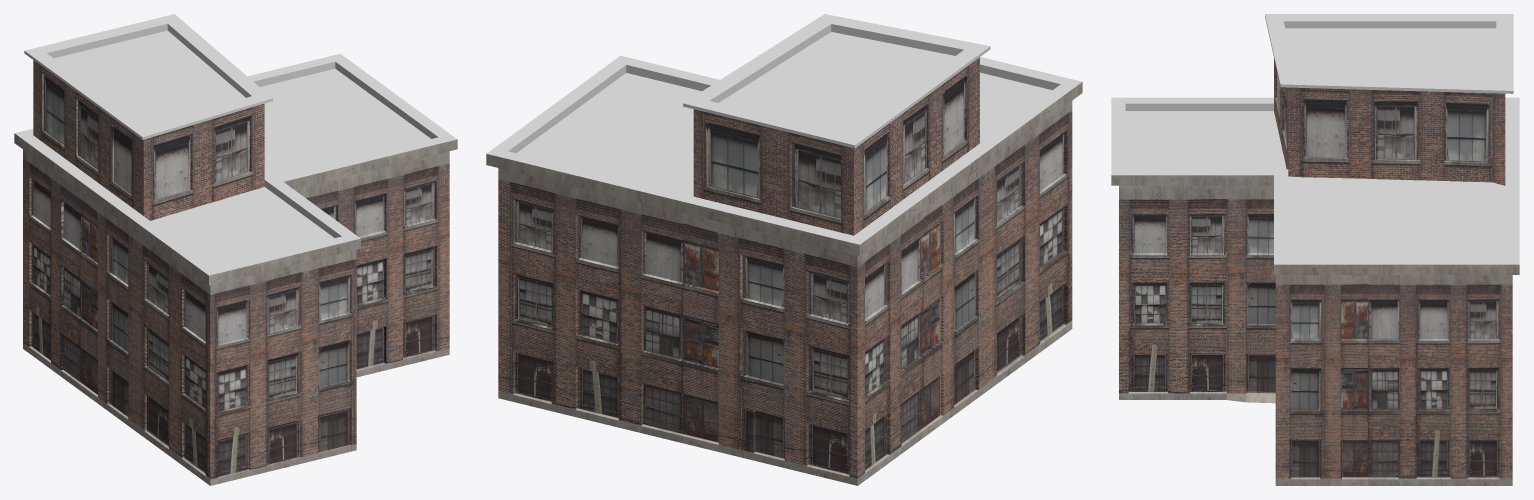
Rendered from industriul house 3.fbx.
3 views of the same model, side by side, from view 1: azimuth 30°, elevation 25°; view 2: azimuth 150°, elevation 25°; view 3: azimuth 270°, elevation 25° (orthographic). The views are drawn at different scales.
Visible parts, largest first — view 1: Cube, Cube.001; view 2: Cube, Cube.001; view 3: Cube, Cube.001.
Part boxes in pixels (box(x1,y1,x2,y2)): Cube: box(14, 53, 457, 485); Cube.001: box(24, 14, 272, 220); Cube: box(486, 55, 1082, 485); Cube.001: box(683, 14, 990, 235); Cube: box(1111, 97, 1519, 485); Cube.001: box(1265, 14, 1513, 182).
Size of the model in its own units: 334 by 291 by 345.
Materials: 2 (1 with a texture image).
